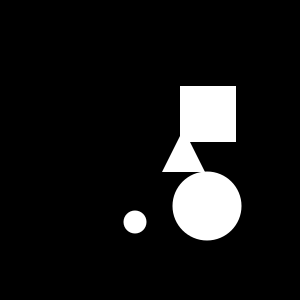circle: (180, 86, 236, 142)
rectangle: (172, 172, 241, 240), (124, 210, 146, 234)
triangle: (162, 129, 205, 172)
